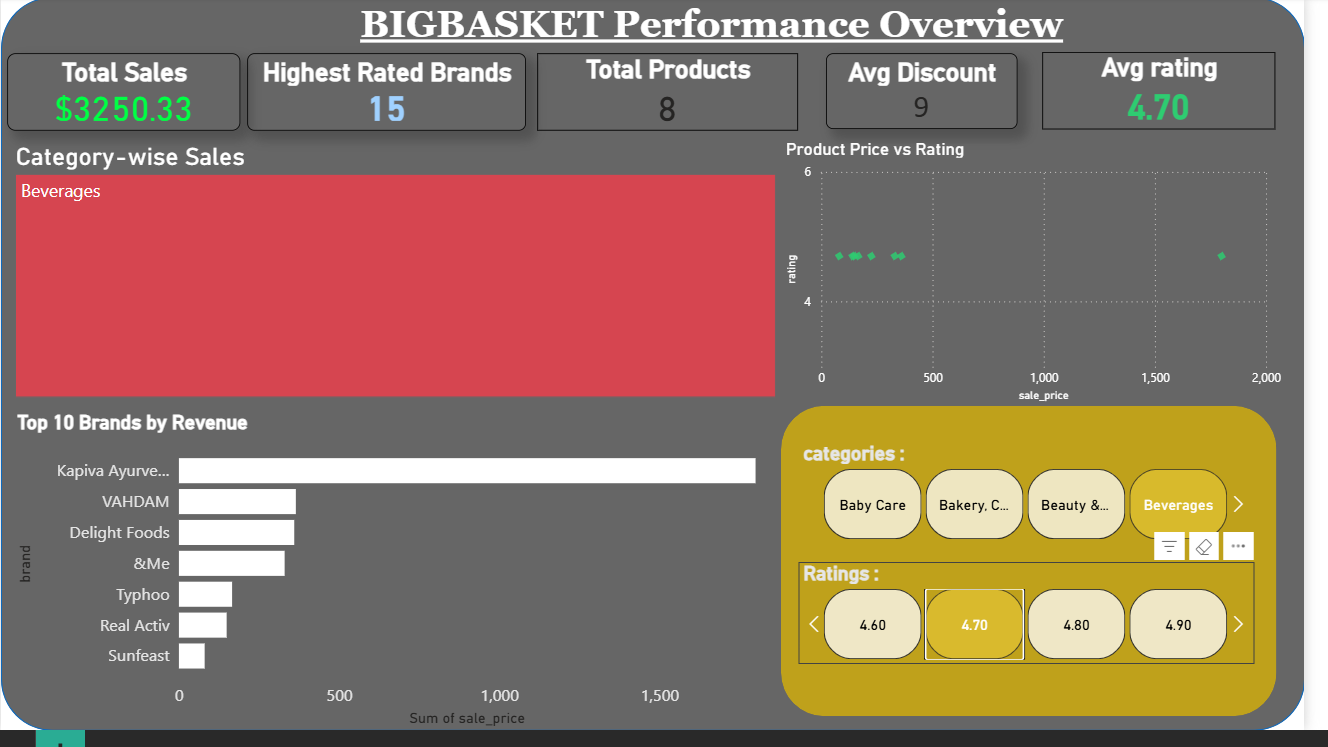

The dashboard page shown, as its layout file describes it:
{"tool":"powerbi","page":{"name":"Page 1","canvas":[1280,720],"ordinal":0},"visuals":[{"type":"shape","box":[0,0,1280,720.3],"z":0},{"type":"shape","box":[765,401.8,486.4,304.8],"z":1000},{"type":"textbox","box":[202.8,0,990.2,74.6],"z":2000},{"type":"card","title":"Total Sales","fields":{"Values":["BigBasket Products.Measure"]},"box":[6.2,54.7,228.9,75.9],"z":3000},{"type":"card","title":"Avg rating","fields":{"Values":["BigBasket Products.reating"]},"box":[1022.5,53.5,228.9,75.9],"z":4000},{"type":"card","title":"Highest Rated Brands","fields":{"Values":["BigBasket Products.highest_rated"]},"box":[241.3,54.7,273.7,75.9],"z":5000},{"type":"card","title":"Avg Discount","fields":{"Values":["BigBasket Products.avgdis"]},"box":[809.8,54.7,187.8,74.6],"z":6000},{"type":"card","title":"Total Products","fields":{"Values":["BigBasket Products.total product1"]},"box":[526.2,54.7,256.3,75.9],"z":7000},{"type":"treemap","title":"Category-wise Sales","fields":{"Group":["BigBasket Products.category"],"Values":["Sum(BigBasket Products.sale_price)"]},"box":[10,141.8,755.1,255],"z":8000},{"type":"clusteredBarChart","title":"Top 10 Brands by Revenue","fields":{"Category":["BigBasket Products.brand"],"Y":["Sum(BigBasket Products.sale_price)"]},"box":[11.2,405.5,753.8,314.7],"z":9000},{"type":"scatterChart","title":" Product Price vs Rating","fields":{"X":["BigBasket Products.sale_price"],"Y":["BigBasket Products.rating"]},"box":[765,138.1,496.3,263.7],"z":10000},{"type":"advancedSlicerVisual","title":"categories :","fields":{"Values":["BigBasket Products (2).category"]},"box":[782.5,436.6,447.8,100.8],"z":11000},{"type":"advancedSlicerVisual","title":"Ratings :","fields":{"Values":["BigBasket Products.rating"]},"box":[782.5,554.8,447.8,100.8],"z":12001}]}

Visuals, with their boxes in screenshot pixels (x1, y1, x2, y2), scaled from the page's 1280x720 canvas onto the 1328x747 screenshot:
shape: rect(0, 0, 1327, 746)
shape: rect(794, 417, 1298, 733)
textbox: rect(210, 0, 1238, 77)
"Total Sales" card: rect(6, 57, 244, 135)
"Avg rating" card: rect(1061, 56, 1298, 134)
"Highest Rated Brands" card: rect(250, 57, 534, 135)
"Avg Discount" card: rect(840, 57, 1035, 134)
"Total Products" card: rect(546, 57, 812, 135)
"Category-wise Sales" treemap: rect(10, 147, 794, 412)
"Top 10 Brands by Revenue" clusteredBarChart: rect(12, 421, 794, 746)
" Product Price vs Rating" scatterChart: rect(794, 143, 1309, 417)
"categories :" advancedSlicerVisual: rect(812, 453, 1276, 558)
"Ratings :" advancedSlicerVisual: rect(812, 576, 1276, 680)
